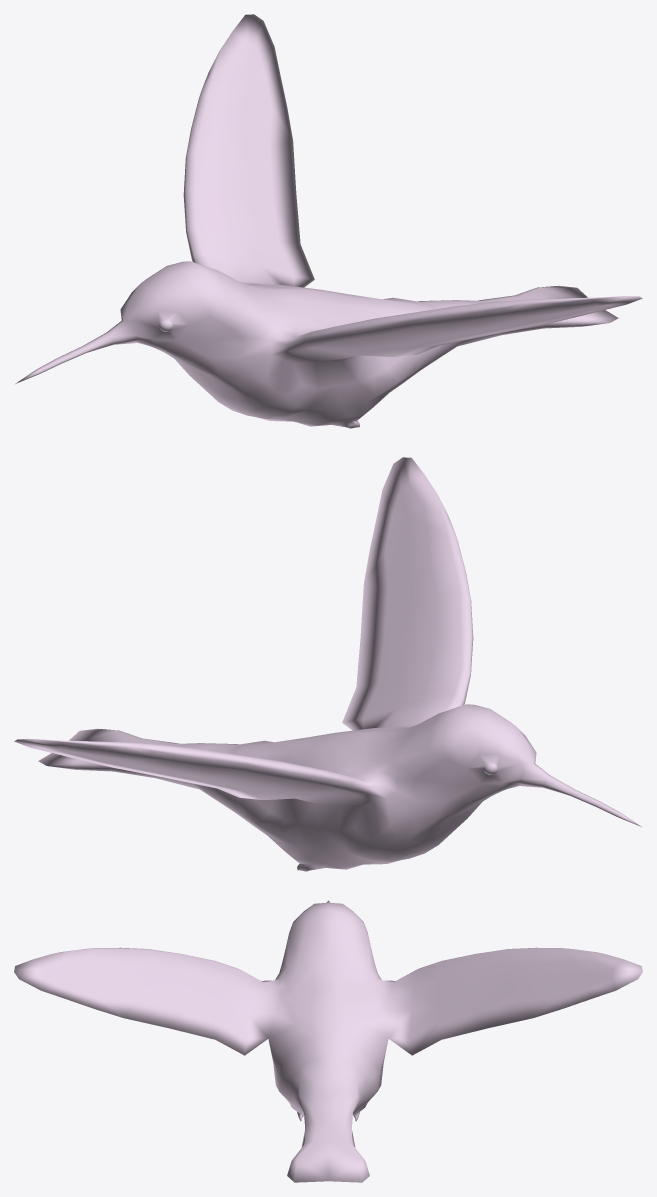
Rendered from bird.gltf.
3 views of the same model, one above another, from view 1: azimuth 30°, elevation 25°; view 2: azimuth 150°, elevation 25°; view 3: azimuth 270°, elevation 25° (orthographic). The views are drawn at different scales.
Parts seen in each view (by area): view 1: HUMBIRD; view 2: HUMBIRD; view 3: HUMBIRD.
Part boxes in pixels (x1,y1,x2,y2): HUMBIRD: (15,14,642,428); HUMBIRD: (14,457,641,871); HUMBIRD: (14,900,642,1182).
Size of the model in its own units: 0.7053 by 0.2729 by 0.8059.
